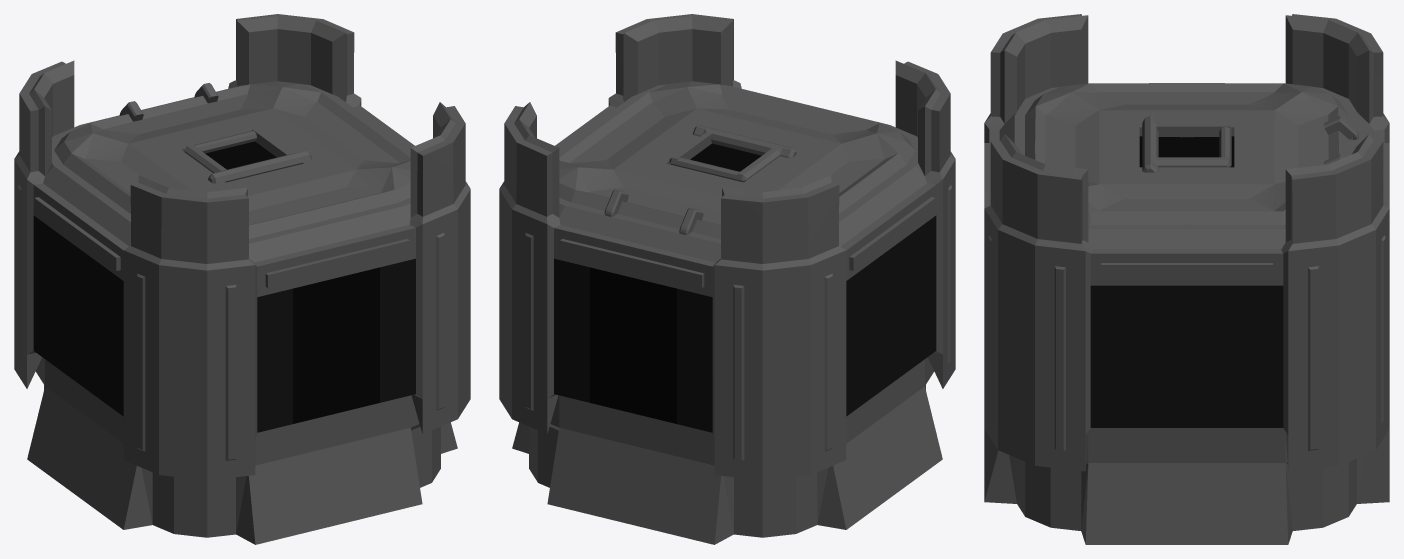
The model's file is sht-110_box.dae.
3 views of the same model, side by side, from view 1: azimuth 30°, elevation 25°; view 2: azimuth 150°, elevation 25°; view 3: azimuth 270°, elevation 25° (orthographic). The views are drawn at different scales.
Visible parts, largest first — view 1: sht-110_box; view 2: sht-110_box; view 3: sht-110_box.
Part boxes in pixels (x1=…): sht-110_box: x1=14, y1=14, x2=470, y2=544; sht-110_box: x1=499, y1=14, x2=955, y2=544; sht-110_box: x1=984, y1=14, x2=1389, y2=544.
Bounding box in the file's own units: 3.1 × 3.1 × 3.1.
